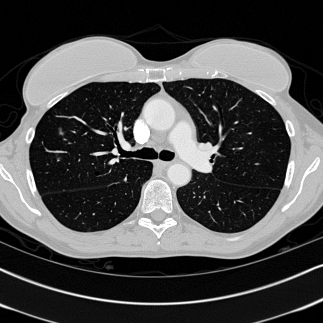nodule: (58, 130, 62, 134)
